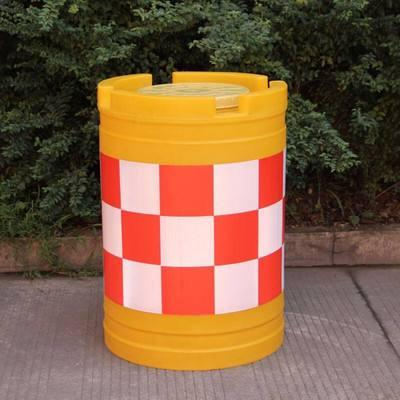sign: (80, 64, 298, 378)
